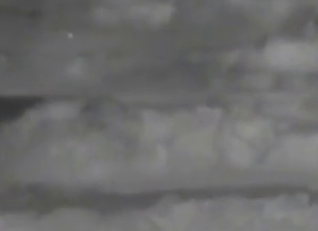Target: (69, 34, 72, 37)
